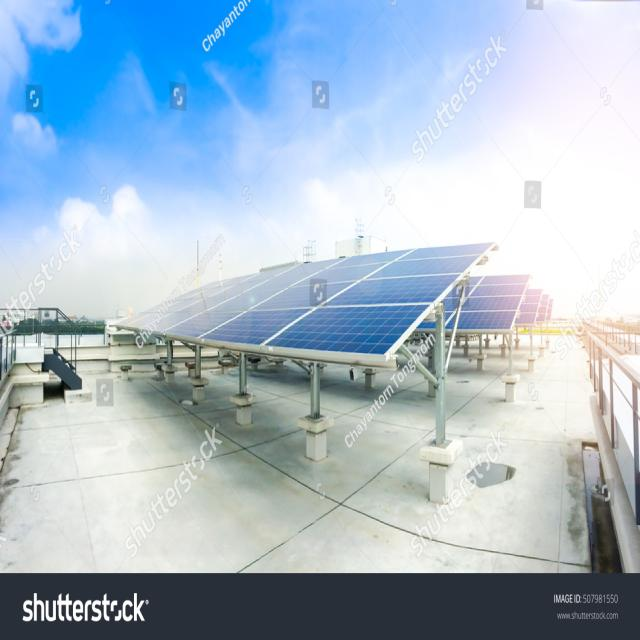clean-solar-panel: (121, 243, 495, 368)
